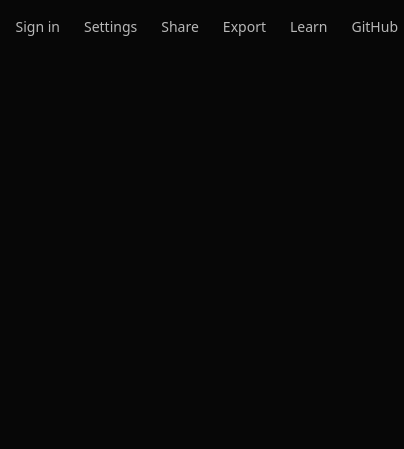
it: TopActionBar export title generation › renders a square generate-title button next to the filename input
Click the button "Export" at (244, 26), box left=217, top=12, right=272, bottom=40
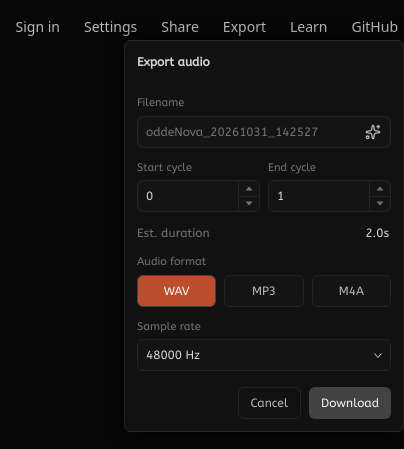
Check: the field labelled "Filename" is shown, box left=137, top=116, right=391, bottom=148
